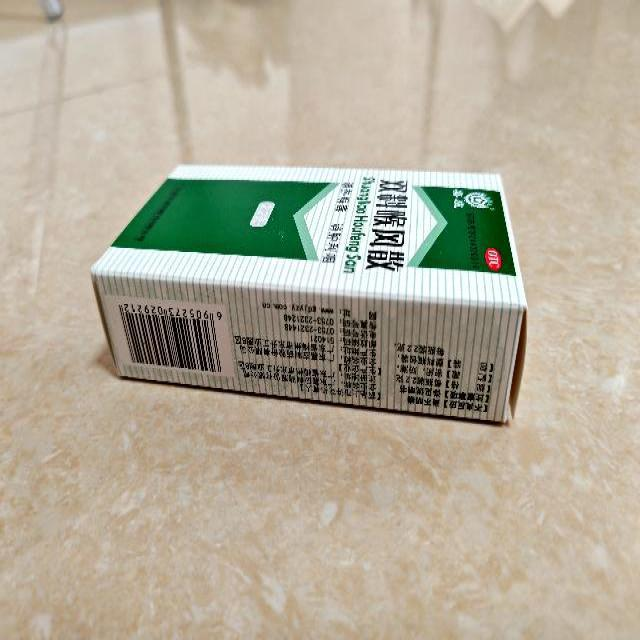box: (90, 164, 528, 424)
